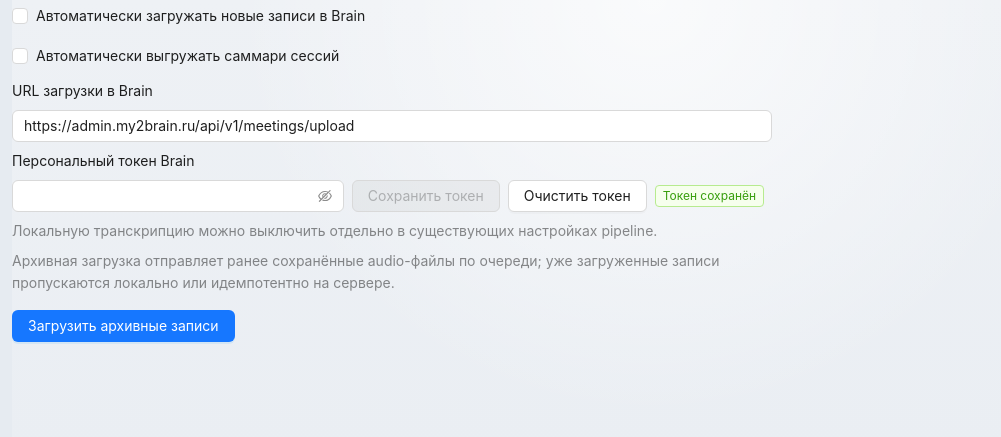
it: BrainSyncSettings › updates archive progress from progress events
Check: the text "Токен сохранён" is shown, box [655,185,764,207]
Click the button "Загрузить архивные записи" at (123, 326), box [12,310,235,342]
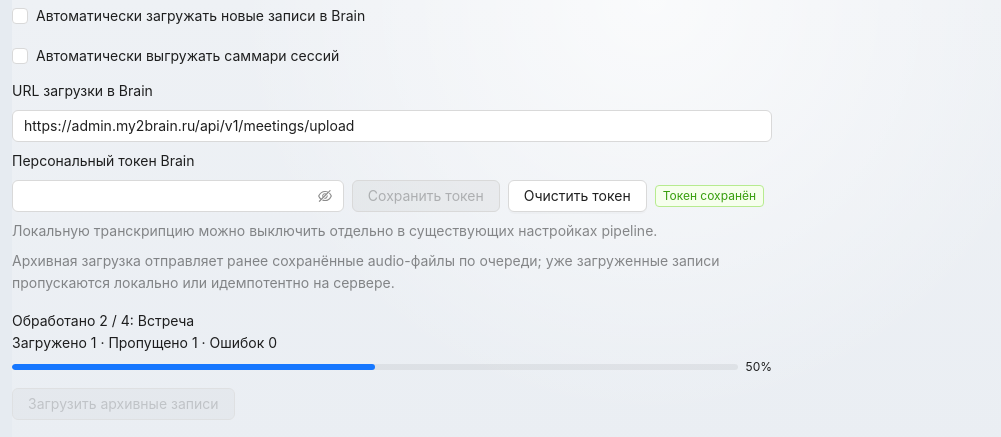
Check: the text "Обработано 2 / 4: Встреча" is shown, box [12,312,194,329]
Check: the text "Загружено 1 · Пропущено 1 · Ошибок 0" is shown, box [12,334,277,351]
